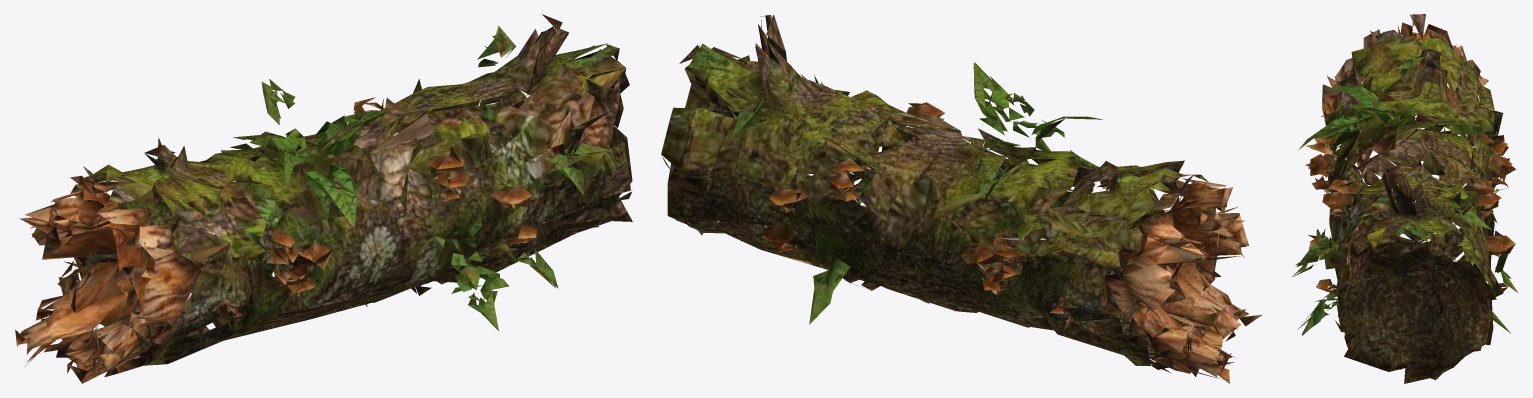
File: tronco_lod1.glb
The picture shows the model from 3 angles, left to right: view 1: azimuth 30°, elevation 25°; view 2: azimuth 150°, elevation 25°; view 3: azimuth 270°, elevation 25°; orthographic projection. The views are drawn at different scales.
Parts seen in each view (by area): view 1: tronco; view 2: tronco; view 3: tronco.
Part boxes in pixels (x1=…): tronco: x1=15, y1=14, x2=632, y2=383; tronco: x1=661, y1=14, x2=1262, y2=383; tronco: x1=1292, y1=14, x2=1517, y2=383.
Bounding box in the file's own units: 4.07 × 1.7 × 1.56.
Materials: 1 (1 with a texture image).
